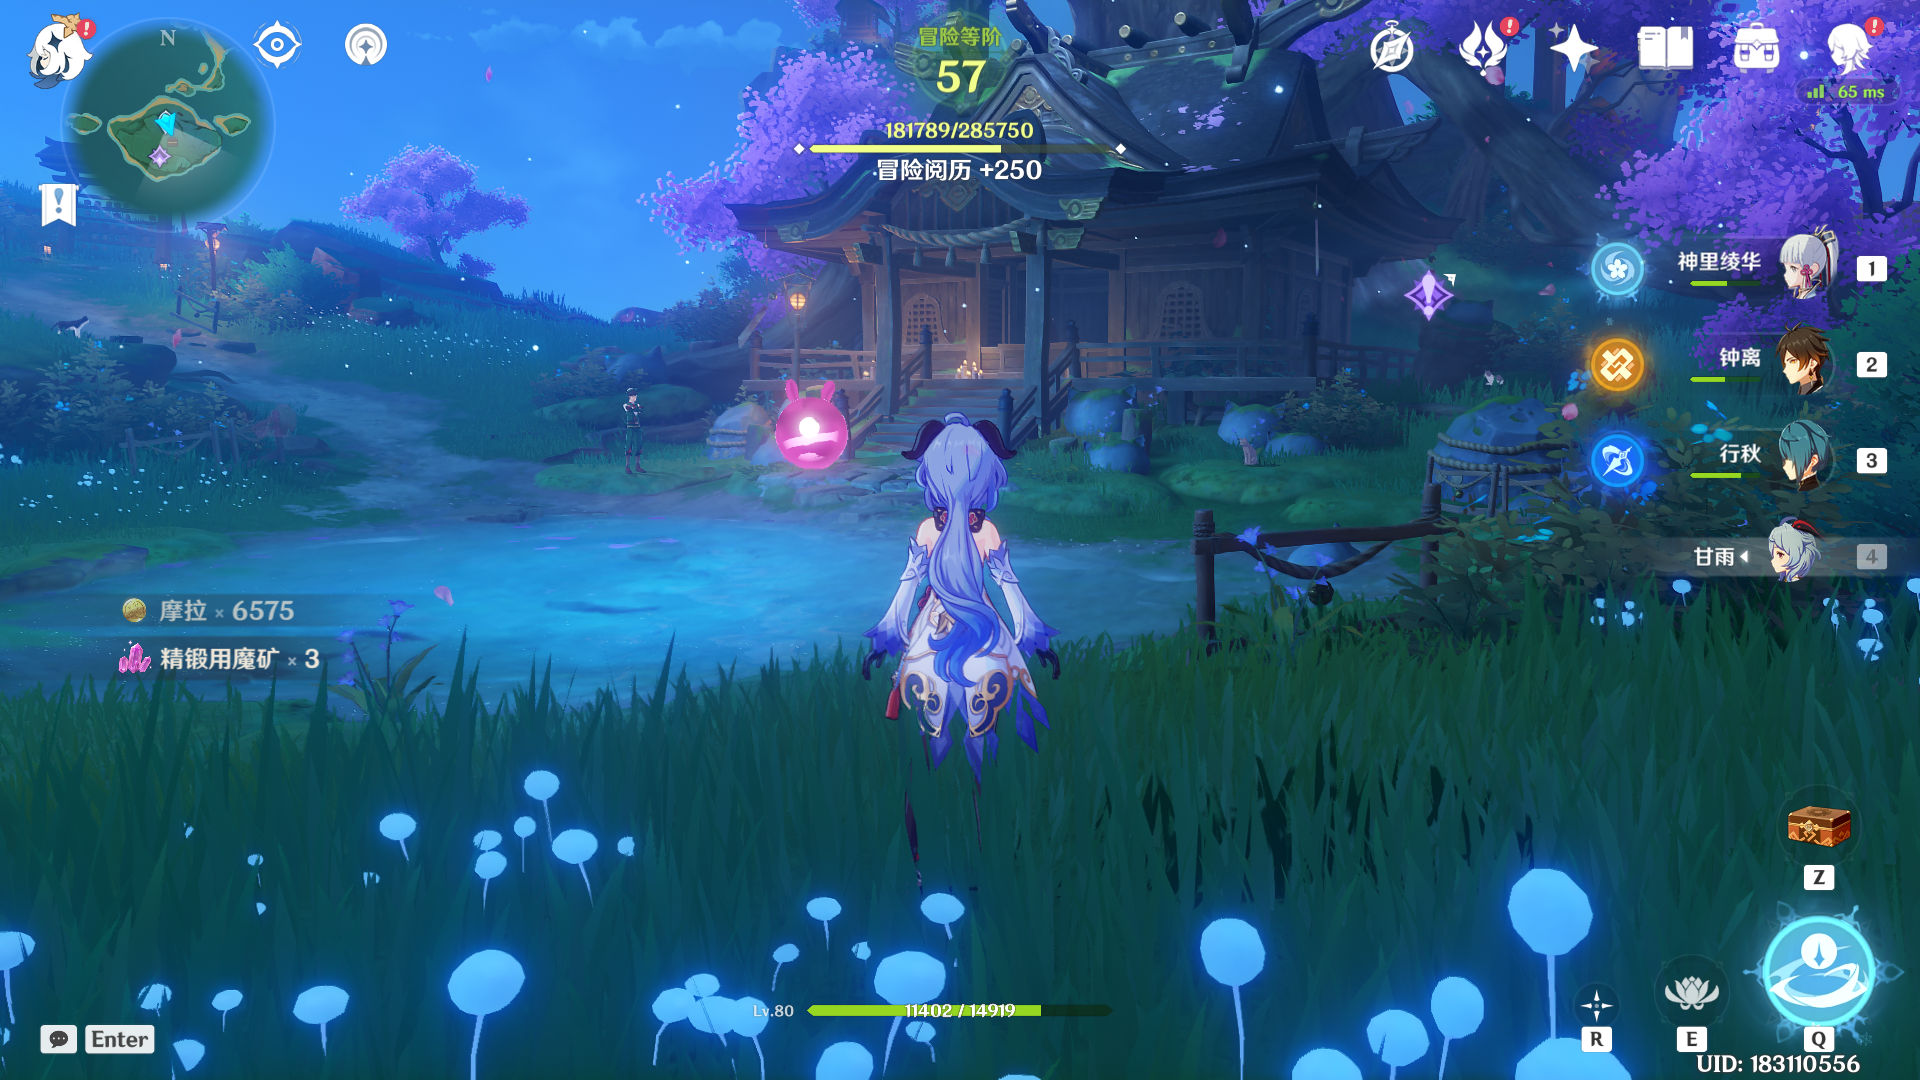character: (851, 375, 1072, 855)
